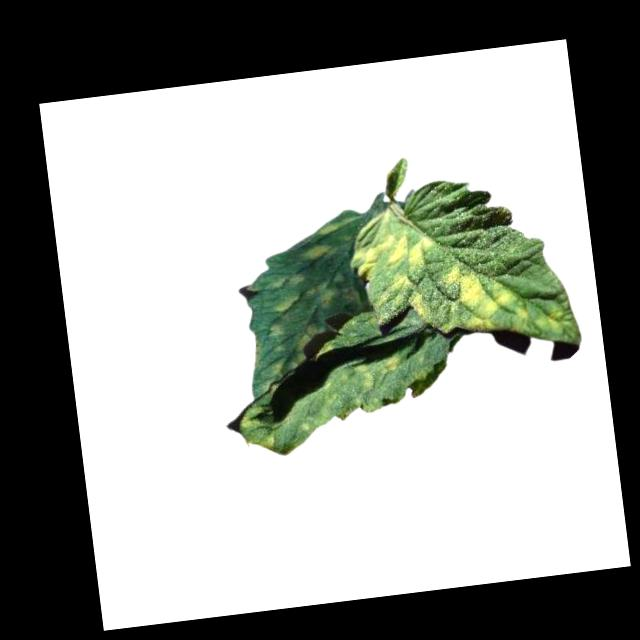Leaf_Mold: (439, 256, 531, 341), (349, 227, 438, 279), (386, 270, 428, 328), (288, 321, 332, 365), (304, 278, 337, 312), (301, 241, 337, 266), (272, 293, 302, 315), (383, 354, 403, 373), (258, 435, 277, 453)
